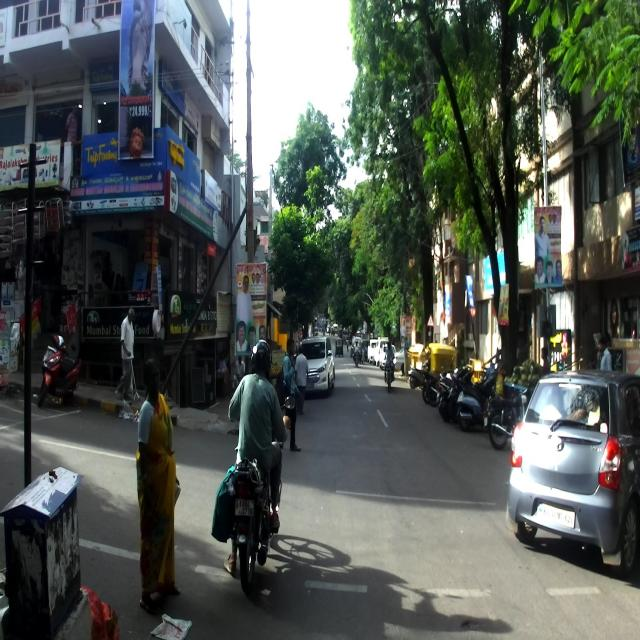Car_Toyota: (504, 367, 640, 580)
motorcycle_Hero: (230, 394, 287, 596)
motorcycle_RoyalEnfield: (482, 364, 536, 450)
scooter: (36, 316, 82, 408), (455, 362, 498, 431)
